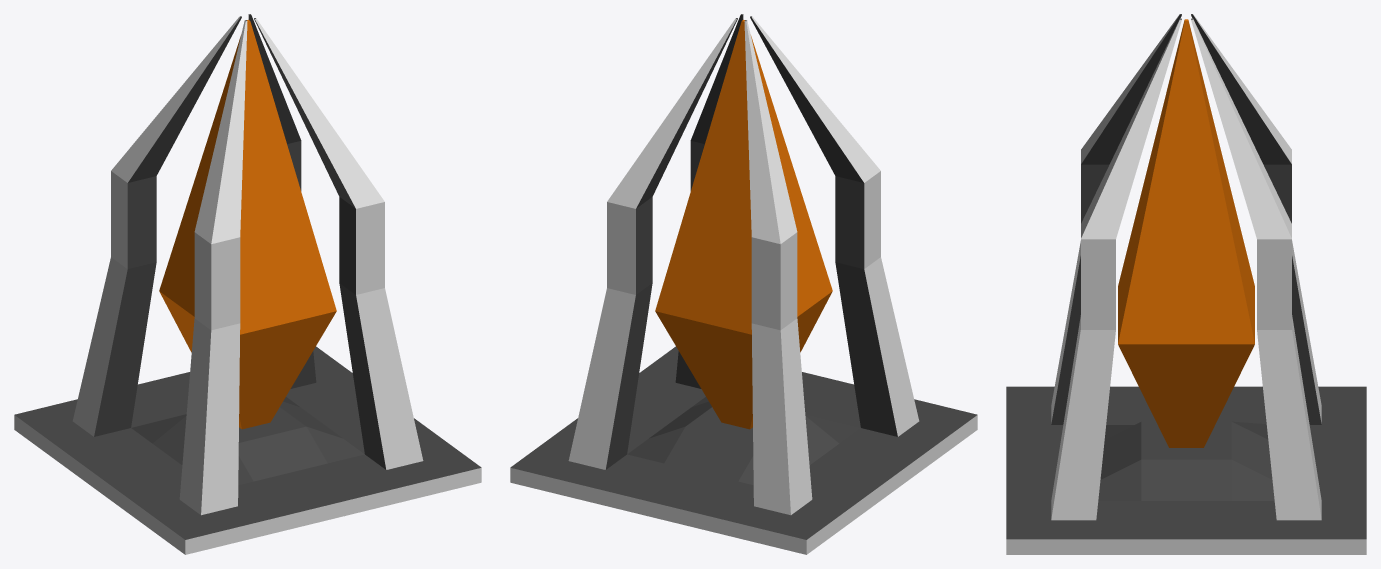
File: orangeLaser.fbx
The picture shows the model from 3 angles, left to right: view 1: azimuth 30°, elevation 25°; view 2: azimuth 150°, elevation 25°; view 3: azimuth 270°, elevation 25°; orthographic projection. The views are drawn at different scales.
Visible parts, largest first — view 1: Cube.001, Cube; view 2: Cube.001, Cube; view 3: Cube.001, Cube.
Boxes of the visible parts, left/top/right/bottom form: Cube.001: left=14, top=14, right=481, bottom=554; Cube: left=159, top=20, right=336, bottom=429; Cube.001: left=510, top=14, right=977, bottom=554; Cube: left=655, top=20, right=832, bottom=429; Cube.001: left=1006, top=14, right=1366, bottom=554; Cube: left=1118, top=19, right=1254, bottom=447.
Bounding box in the file's own units: 200 × 283 × 200.
